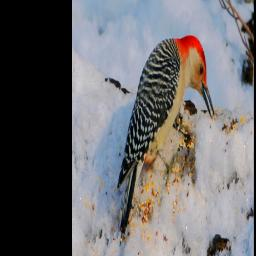Woodpecker: (115, 33, 215, 246)
